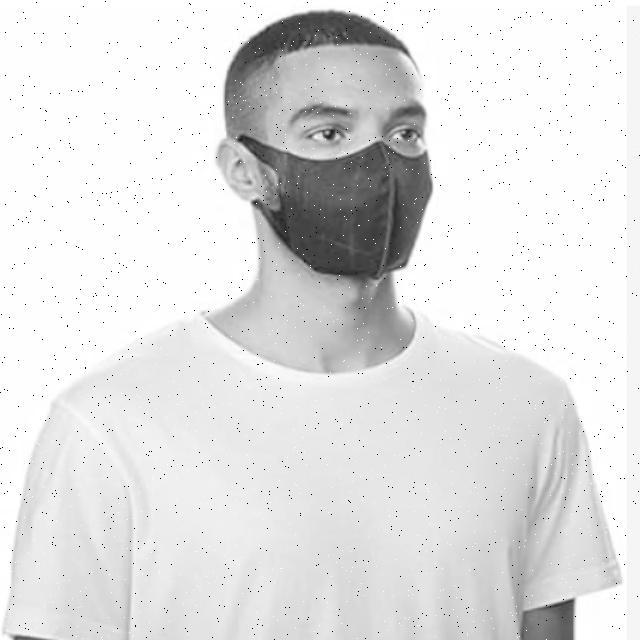face_mask: (214, 43, 434, 277)
